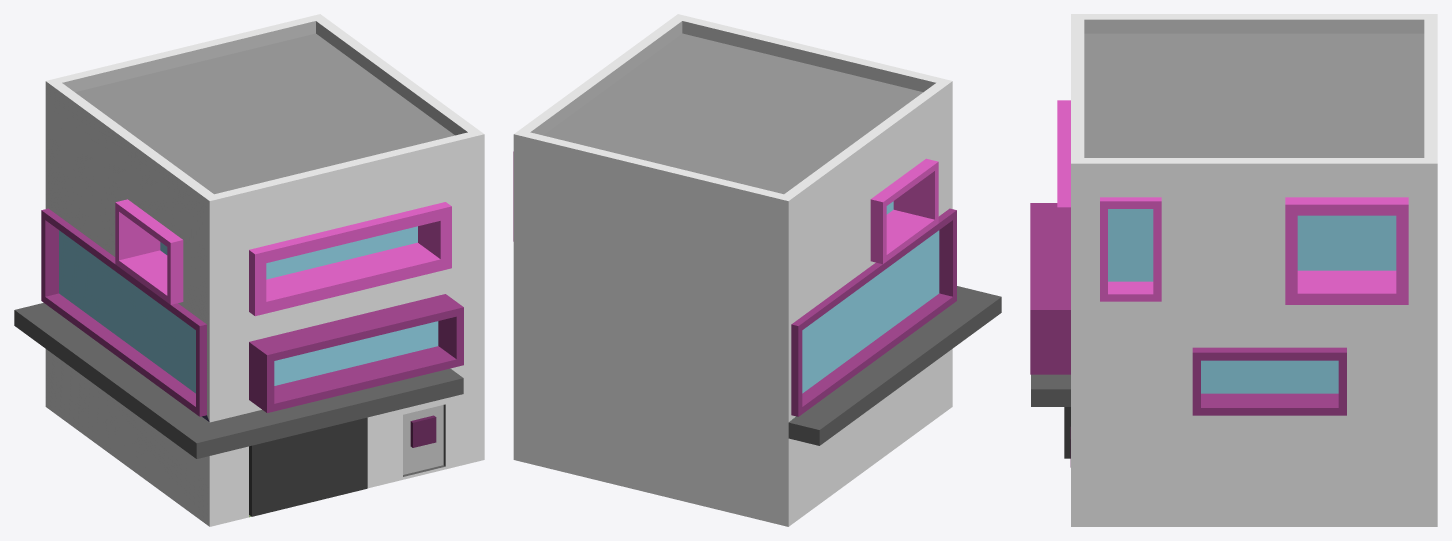
The model's file is House1.fbx.
3 renders of one model, left to right at view 1: azimuth 30°, elevation 25°; view 2: azimuth 150°, elevation 25°; view 3: azimuth 270°, elevation 25°, orthographic. The views are drawn at different scales.
Visible parts, largest first — view 1: Box001; view 2: Box001; view 3: Box001.
Part boxes in pixels (x1,y1,x2,y2): Box001: (14,14,484,526); Box001: (513,14,1001,526); Box001: (1030,14,1437,526).
Bounding box in the file's own units: 917 × 894 × 907.
